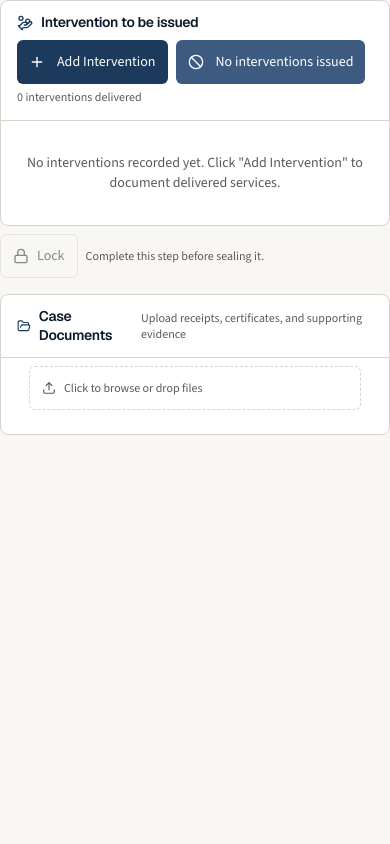
StepImplementHIP adhoc intervention › enrolled-program scoping › shows the financial fields only for a financial service
Click the button "Add Intervention".
click(92, 62)  # box [17, 40, 168, 84]
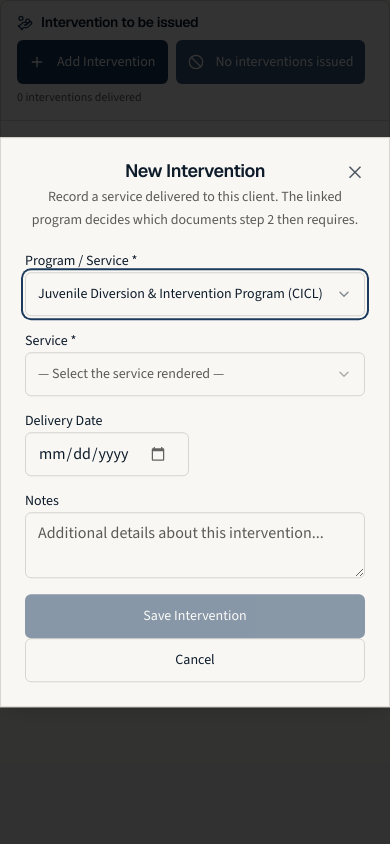
Expected: the dialog is shown
Click the dropdown named "Service *".
click(195, 374)  # box [25, 352, 365, 396]
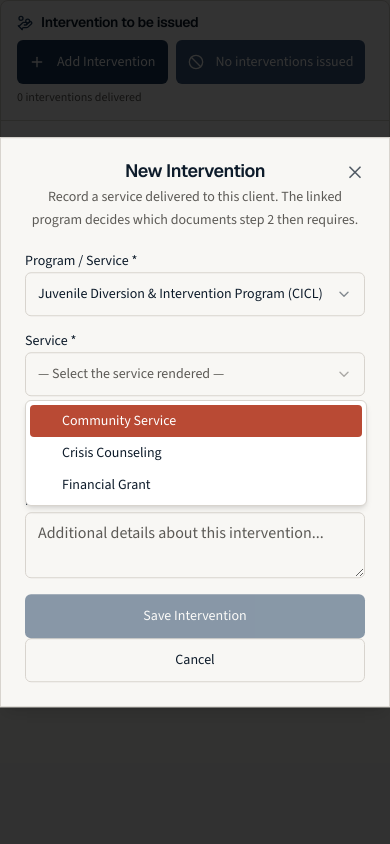
Click the option "Crisis Counseling".
click(112, 452)  # box [62, 443, 162, 462]
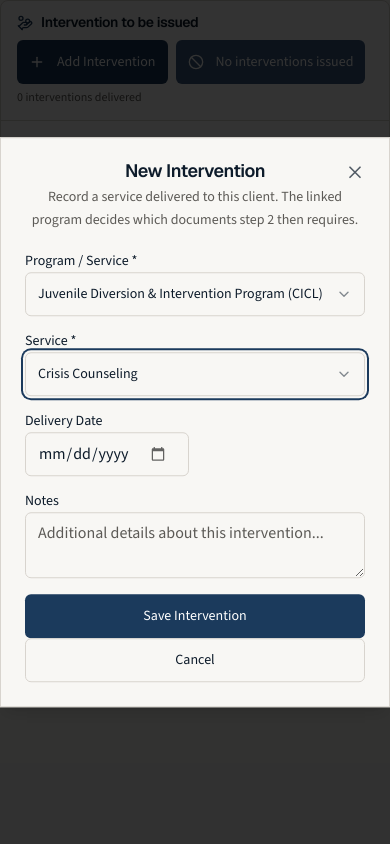
Expected: the field labelled "Amount" is not shown
Expected: the field labelled "Mode of Delivery" is not shown
Click the dropdown named "Service *".
click(88, 373)  # box [25, 352, 365, 396]
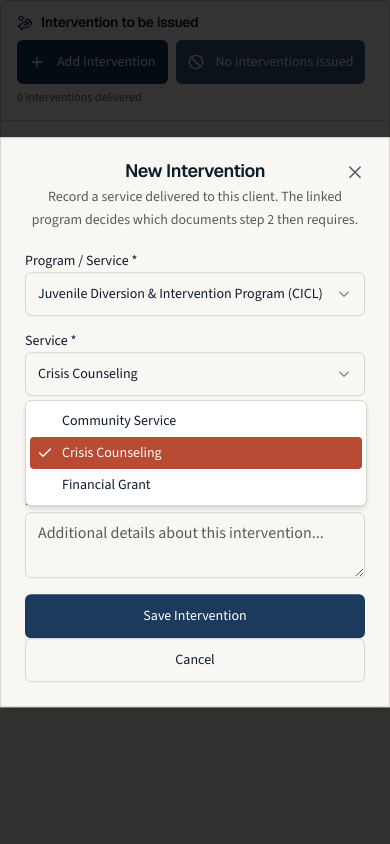
Click the option "Financial Grant".
click(106, 484)  # box [62, 475, 151, 494]
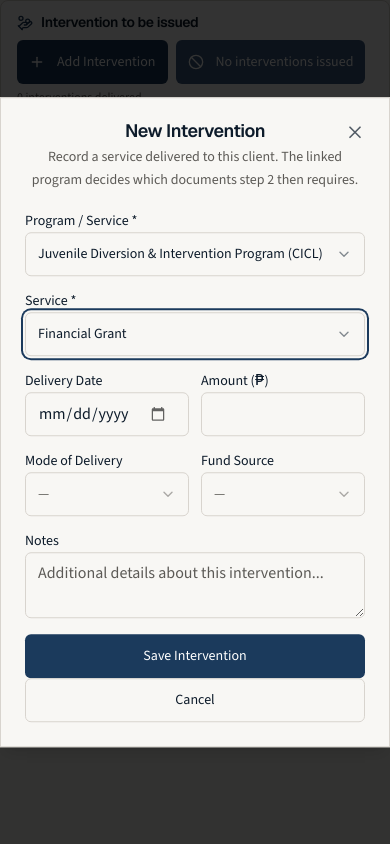
Expected: the field labelled "Amount (₱)" is shown, [201, 392, 365, 436]
Expected: the dropdown named "Mode of Delivery" is shown, [25, 472, 189, 516]
Expected: the dropdown named "Fund Source" is shown, [201, 472, 365, 516]
